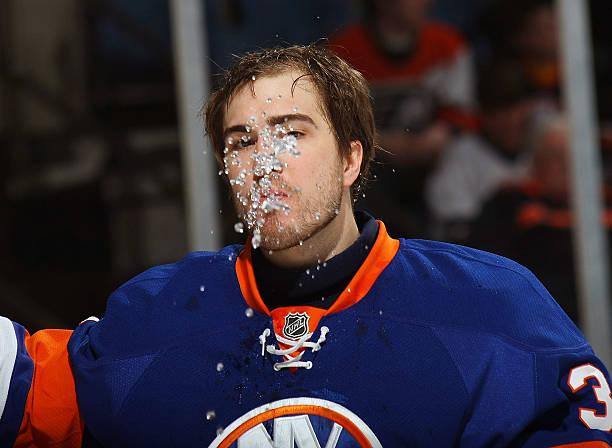Spitting: (177, 32, 399, 293)
